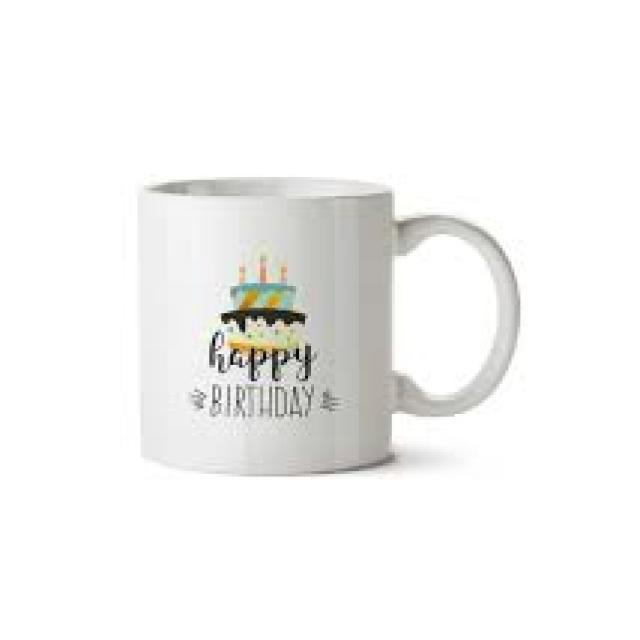taza: (135, 175, 522, 480)
